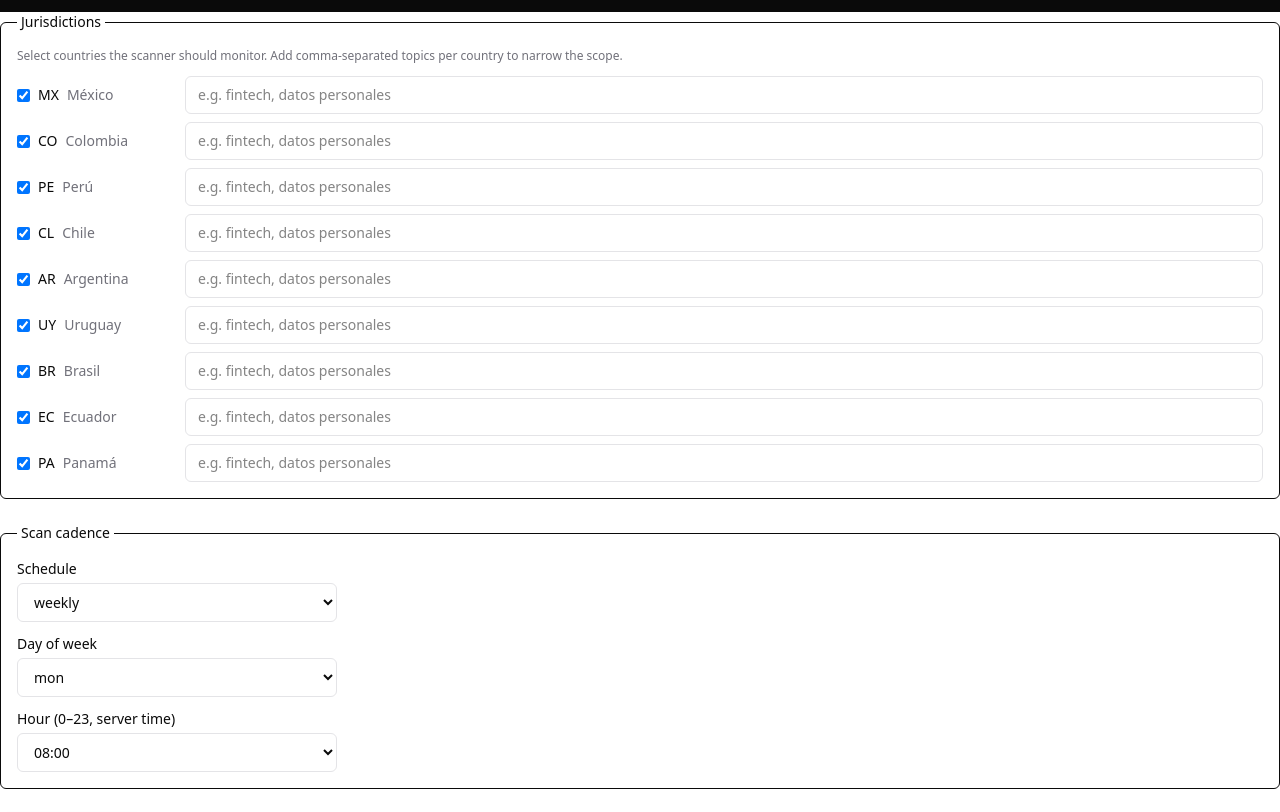
Scenario: <PreferencesForm> › shows day-of-month input when schedule=monthly
Select "monthly" in the dropdown with test id "preferences-form-schedule": (177, 602) [17,583,337,622]
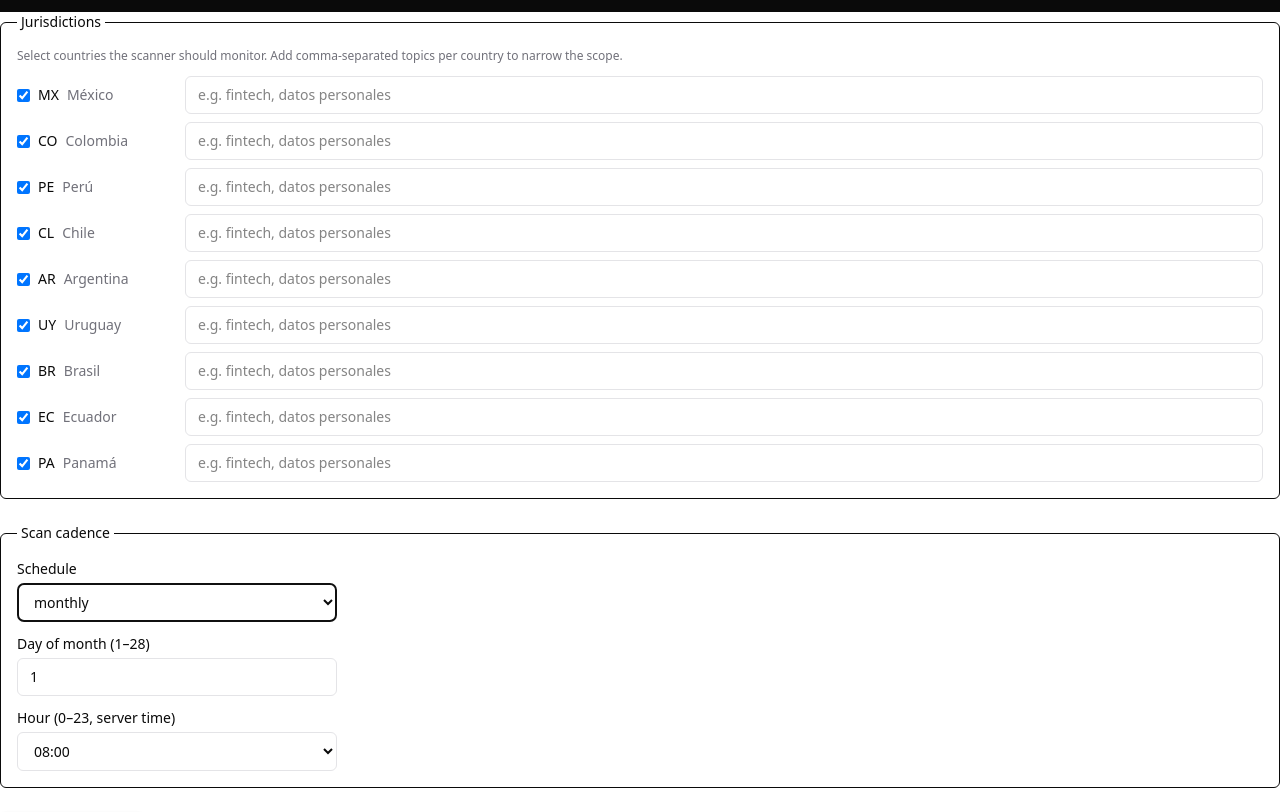
Expected: the number field with test id "preferences-form-day-of-month" is shown, [17,658,337,696]
